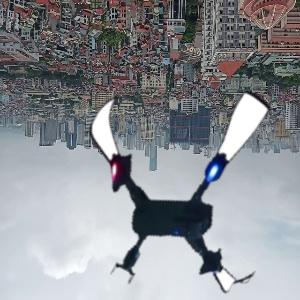drone: (59, 65, 295, 300)
